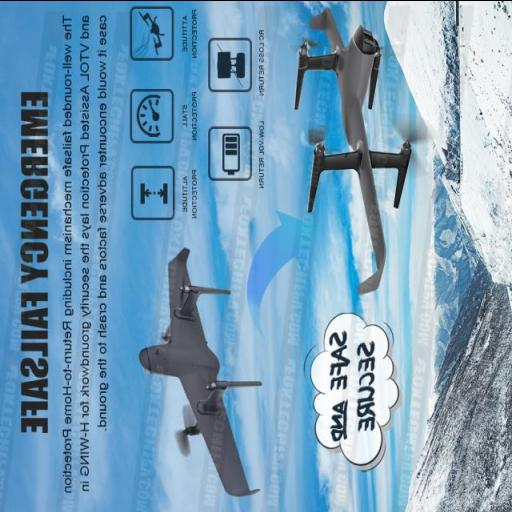uav: (136, 241, 266, 500)
